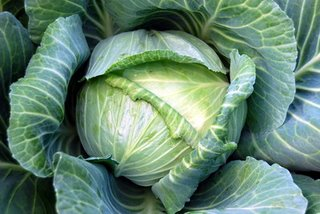cabbage: (6, 0, 310, 213)
